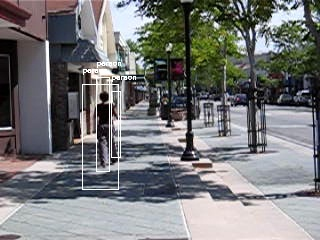person: (95, 92, 120, 169), (94, 92, 119, 169), (96, 92, 121, 169), (95, 91, 120, 168), (95, 93, 120, 170)
target_negative: (38, 18, 261, 93), (253, 69, 303, 97), (20, 222, 112, 231), (103, 232, 294, 233), (294, 207, 311, 214)
